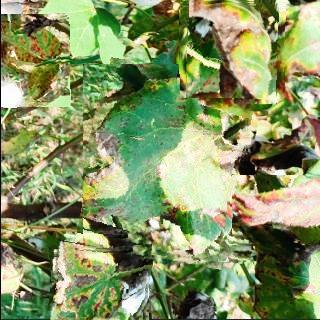blight: (178, 0, 284, 98), (49, 244, 151, 320), (0, 14, 69, 107), (231, 175, 320, 245)
leaf spot: (82, 64, 248, 264)
